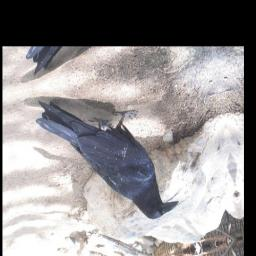Crow: (33, 71, 182, 244)
